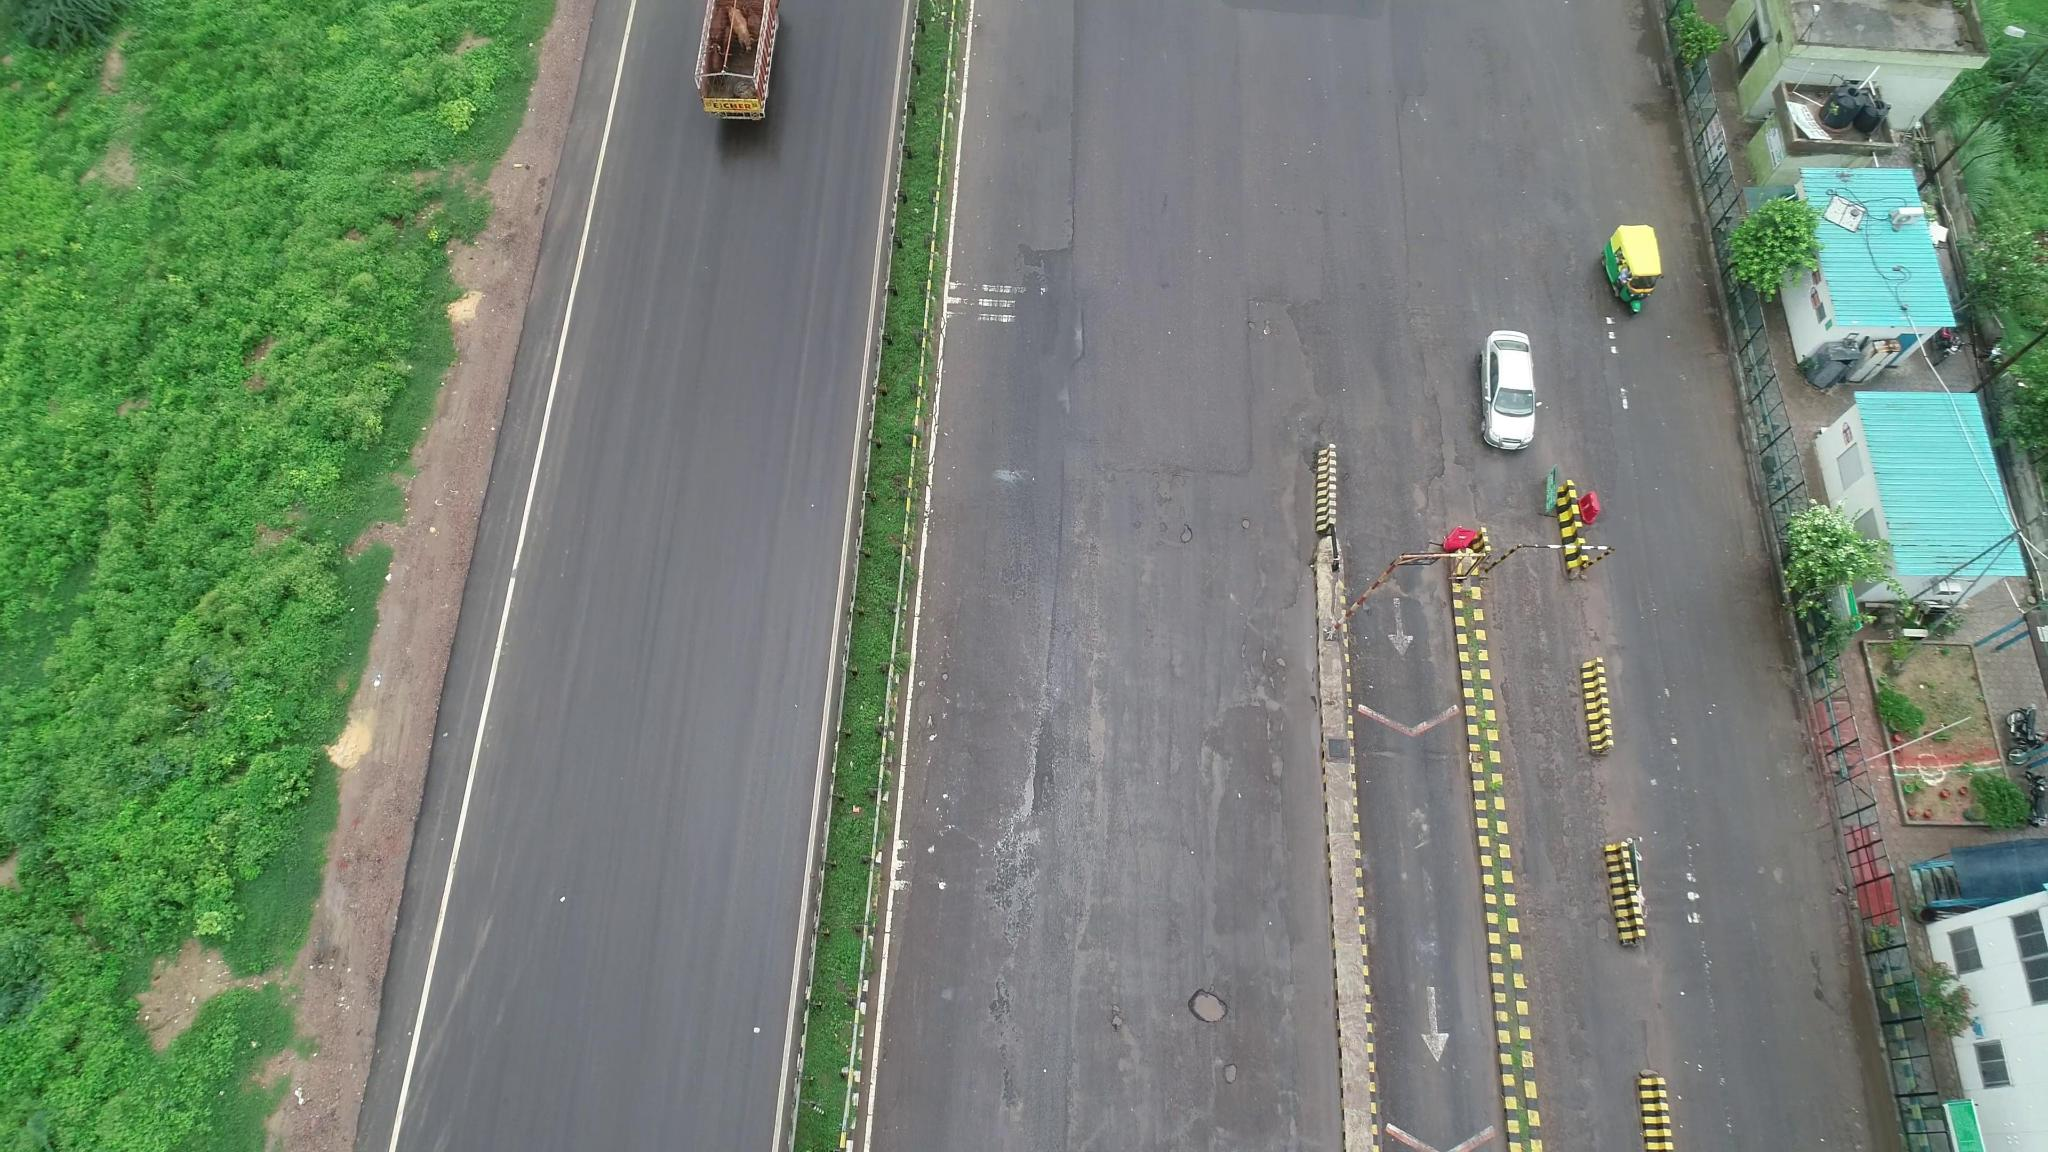Potholes: (1127, 459, 1284, 598), (1151, 952, 1272, 1131), (1234, 281, 1301, 376)
